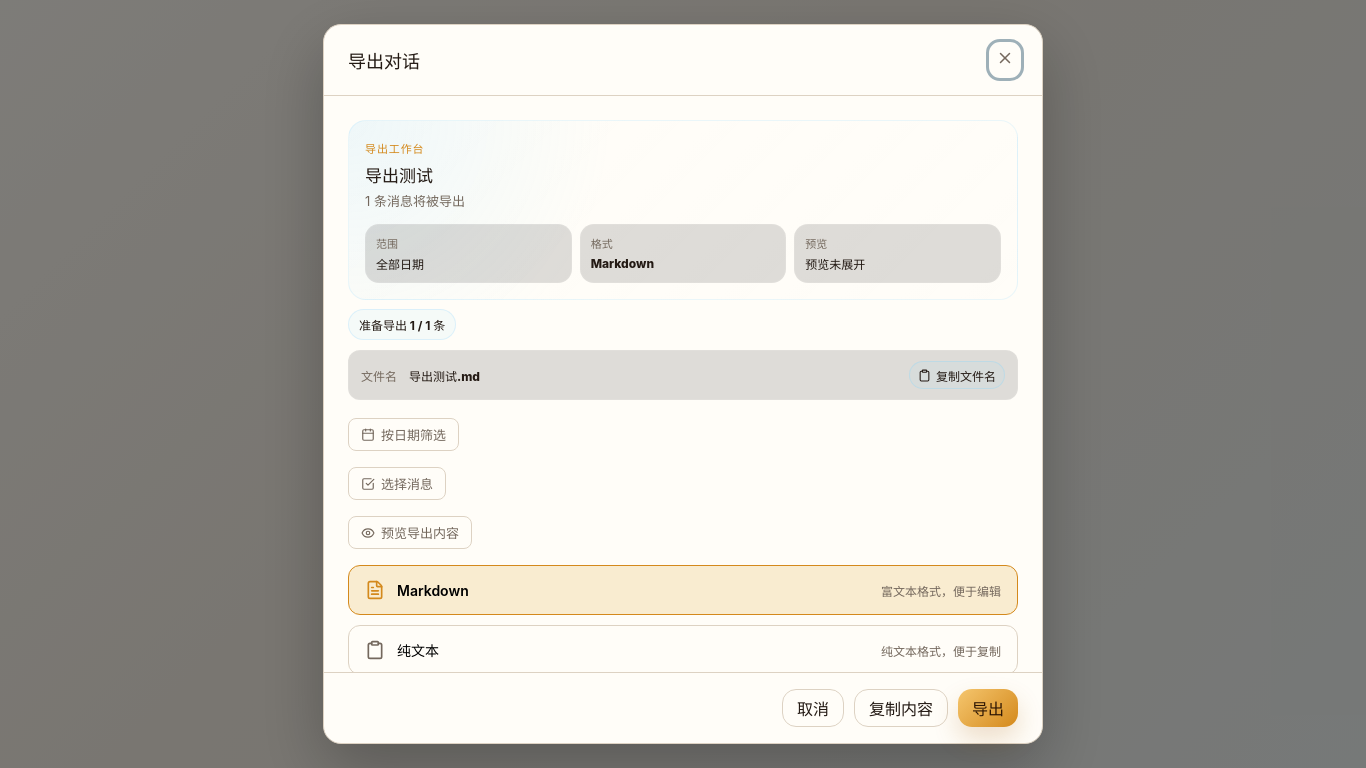
Scenario: ExportModal › copies the current export content with visible success feedback
Step 1. Click the button "复制内容" → (901, 708), box [854,689,948,727]
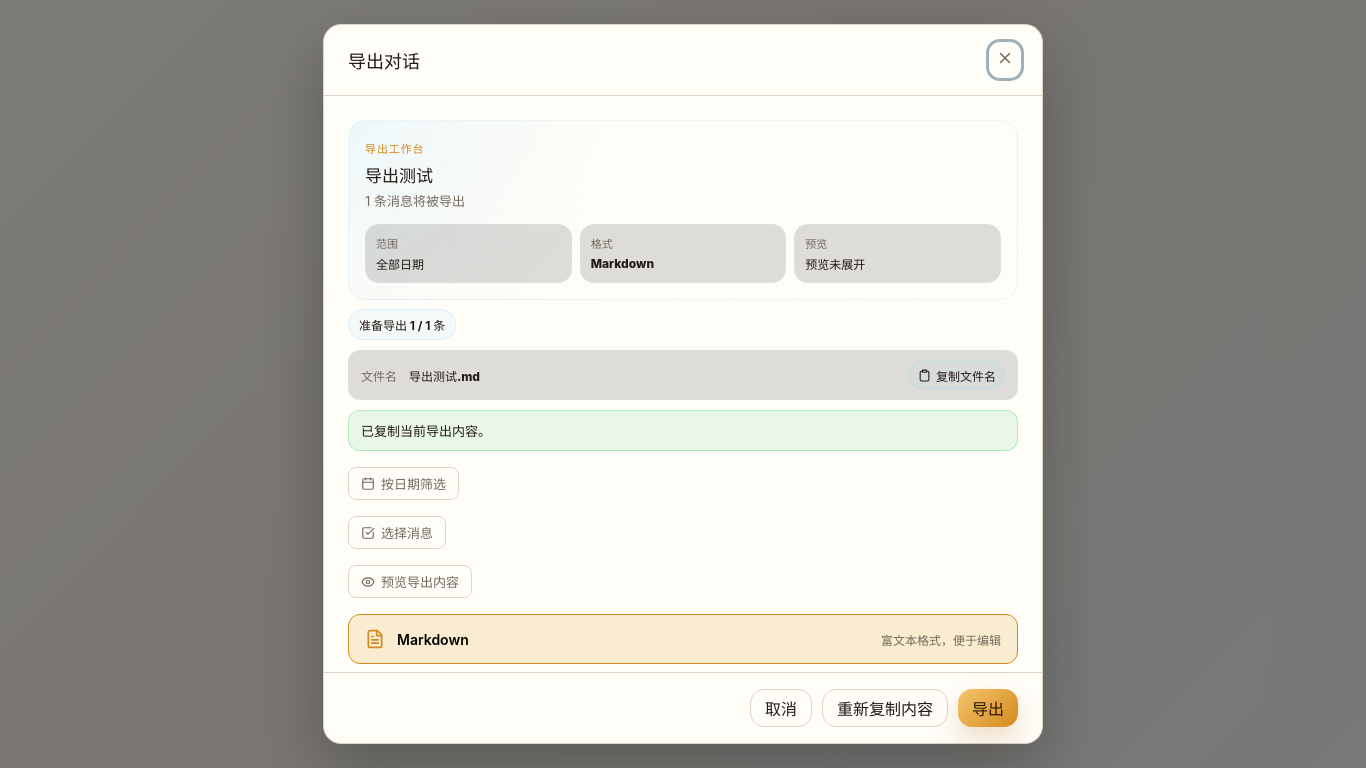
Expected: the text "已复制当前导出内容。" is shown, [348,410,1018,451]
Expected: the button "重新复制内容" is shown, [822,689,948,727]
